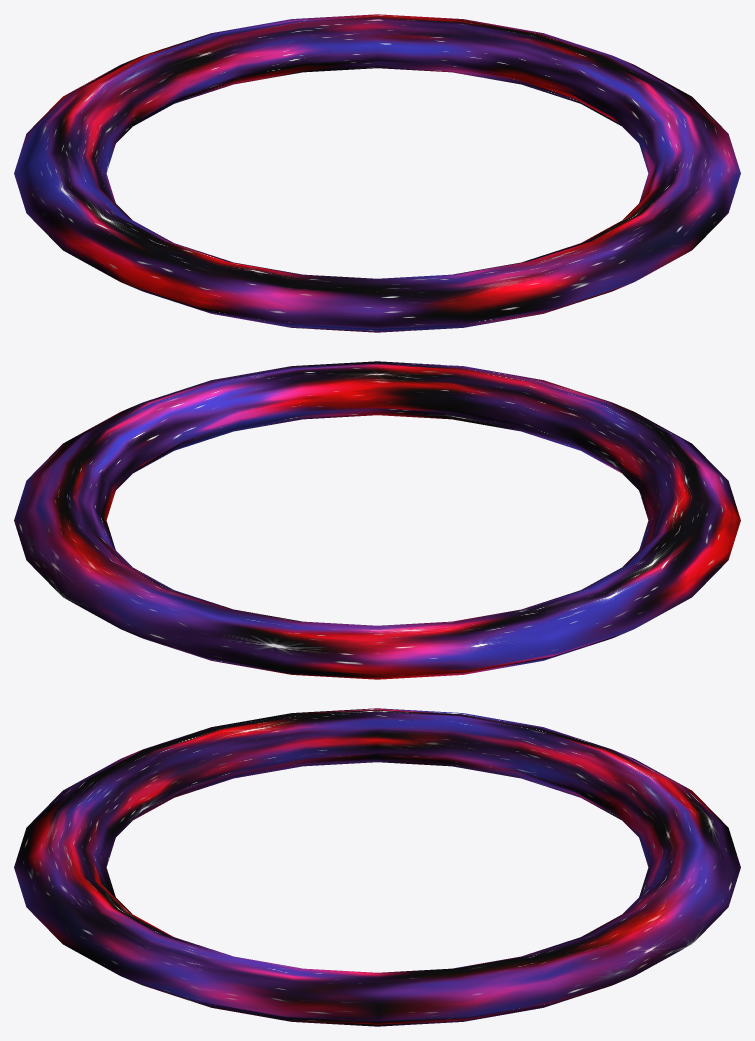
Rendered from BlackHoleGalo.fbx.
3 renders of one model, top to bottom at view 1: azimuth 30°, elevation 25°; view 2: azimuth 150°, elevation 25°; view 3: azimuth 270°, elevation 25°, orthographic.
Visible parts, largest first — view 1: BlackHoleGalo; view 2: BlackHoleGalo; view 3: BlackHoleGalo.
Boxes of the visible parts, x1,y1,x2,y2 form: BlackHoleGalo: (14,14,740,332); BlackHoleGalo: (14,361,740,679); BlackHoleGalo: (14,708,740,1026).
Size of the model in its own units: 3649 by 274 by 3649.
